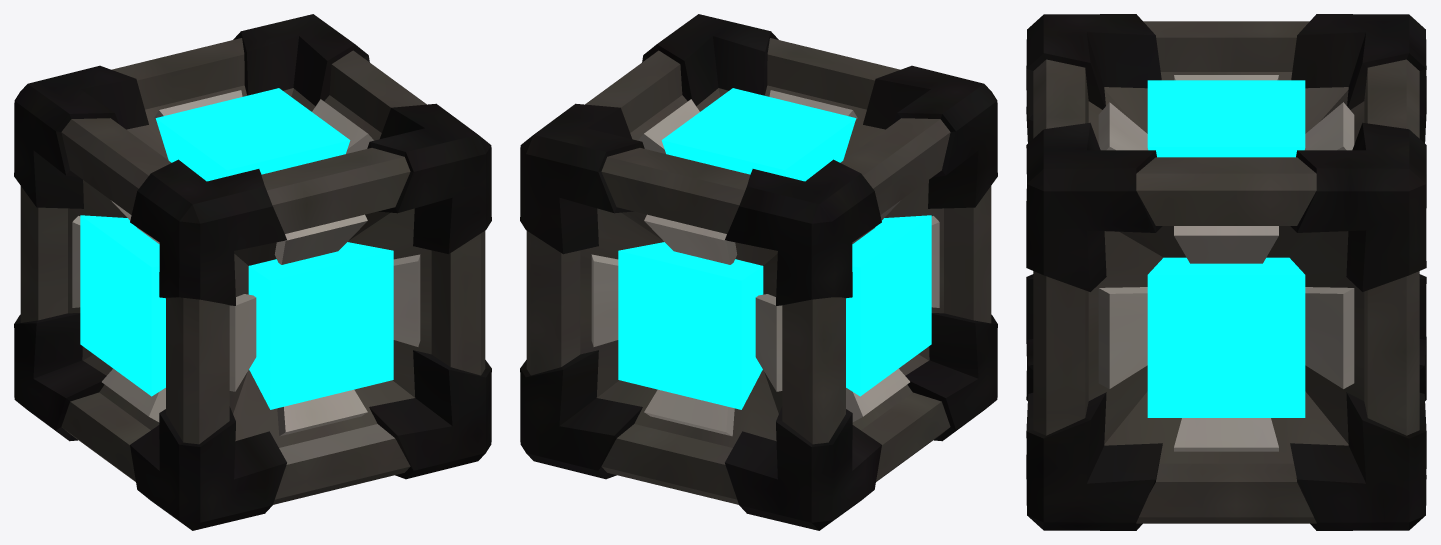
File: Sci-Fi Crate.fbx
3 renders of one model, left to right at view 1: azimuth 30°, elevation 25°; view 2: azimuth 150°, elevation 25°; view 3: azimuth 270°, elevation 25°, orthographic. The views are drawn at different scales.
Visible parts, largest first — view 1: Sci-Fi Energy Crate; view 2: Sci-Fi Energy Crate; view 3: Sci-Fi Energy Crate.
Part boxes in pixels (left/top/right/bottom): Sci-Fi Energy Crate: left=14, top=14, right=491, bottom=530; Sci-Fi Energy Crate: left=520, top=14, right=997, bottom=530; Sci-Fi Energy Crate: left=1026, top=14, right=1426, bottom=530.
Bounding box in the file's own units: 207 × 207 × 207.
